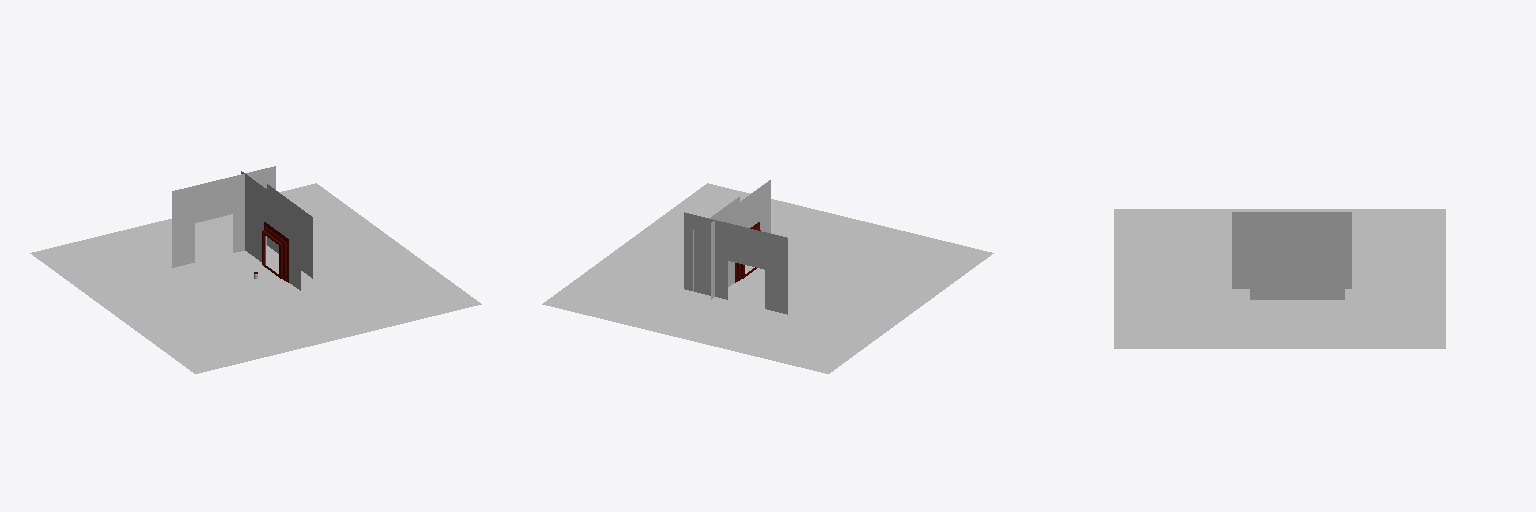
Rendered from bin2.obj.
3 renders of one model, left to right at view 1: azimuth 30°, elevation 25°; view 2: azimuth 150°, elevation 25°; view 3: azimuth 270°, elevation 25°, orthographic.
Parts seen in each view (by area): view 1: 平面_平面.001, 平面.002_平面.003, 平面.003, 平面.004, 平面.001_平面.002; view 2: 平面_平面.001, 平面.002_平面.003, 平面.003; view 3: 平面_平面.001, 平面.004, 平面.003.
Part boxes in pixels (x1,y1,x2,y2): 平面_平面.001: (30, 183, 481, 373); 平面.002_平面.003: (172, 166, 275, 267); 平面.003: (241, 171, 300, 290); 平面.004: (267, 184, 312, 278); 平面.001_平面.002: (262, 222, 288, 282); 平面_平面.001: (542, 183, 993, 373); 平面.002_平面.003: (684, 212, 787, 314); 平面.003: (711, 180, 770, 299); 平面_平面.001: (1114, 209, 1445, 348); 平面.004: (1250, 238, 1344, 299); 平面.003: (1232, 212, 1351, 288).
Size of the model in its own units: 162 by 58.52 by 162.